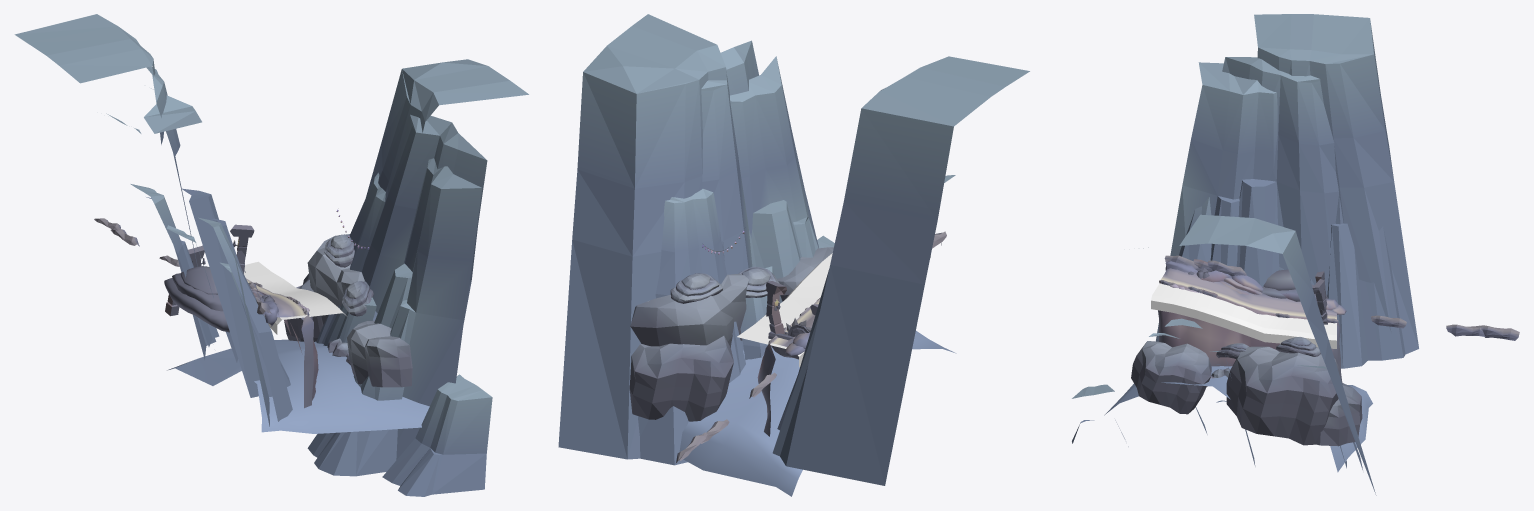
Rendered from Arctic_Narrows_Right_Curve_Right_15_B_Jump_B.glb.
3 renders of one model, left to right at view 1: azimuth 30°, elevation 25°; view 2: azimuth 150°, elevation 25°; view 3: azimuth 270°, elevation 25°, orthographic. The views are drawn at different scales.
Visible parts, largest first — view 1: Arctic_Narrows_Left_IceWall_A02 (1), Arctic_Narrows_Right_IceWall_A02 (1), Arctic_Narrows_Right_Curve_Right_15_B, Arctic_Narrows_Left_IceWall_A02_Right, Arctic_Narrows_Left_IceWall_A02_Mid, Arctic_Narrows_SnowRock_A01 (2), Arctic_Narrows_Right_IceWall_A02_Left, Arctic_Narrows_Left_IceWall_A02_Left, inv_fill, Arctic_Narrows_SnowRock_A01, Arctic_Narrows_Right_IceWall_A02_Mid, Arctic_Narrows_Left_Snow_A01 (+3 smaller); view 2: Arctic_Narrows_Left_IceWall_A02 (1), Arctic_Narrows_Right_IceWall_A02 (1), Arctic_Narrows_Right_Curve_Right_15_B, Arctic_Narrows_Left_IceWall_A02_Left, Arctic_Narrows_SnowRock_A01 (1), Arctic_Narrows_SnowRock_A01, inv_fill, Arctic_Narrows_Left_IceWall_A02_Mid, Arctic_Narrows_Right_IceWall_A02_Right, Arctic_Narrows_SnowRock_A01 (2); view 3: Arctic_Narrows_Right_IceWall_A02 (1), Arctic_Narrows_SnowRock_A01, Arctic_Narrows_Right_Curve_Right_15_B, Arctic_Narrows_Right_IceWall_A02_Right, Arctic_Narrows_Left_IceWall_A02 (1), Arctic_Narrows_SnowRock_A01 (2), inv_fill, Arctic_Narrows_SnowRock_A01 (1), Arctic_Narrows_Right_IceWall_A02_Left.
Part boxes in pixels (x1,y1,x2,y2): Arctic_Narrows_Left_IceWall_A02 (1): (362, 59, 528, 459); Arctic_Narrows_Right_IceWall_A02 (1): (14, 14, 272, 426); Arctic_Narrows_Right_Curve_Right_15_B: (167, 266, 429, 433); Arctic_Narrows_Left_IceWall_A02_Right: (382, 374, 492, 496); Arctic_Narrows_Left_IceWall_A02_Mid: (307, 297, 404, 476); Arctic_Narrows_SnowRock_A01 (2): (347, 320, 412, 387); Arctic_Narrows_Right_IceWall_A02_Left: (198, 217, 292, 421); Arctic_Narrows_Left_IceWall_A02_Left: (316, 172, 385, 343); inv_fill: (244, 261, 346, 334); Arctic_Narrows_SnowRock_A01: (307, 234, 364, 325); Arctic_Narrows_Right_IceWall_A02_Mid: (130, 184, 238, 362); Arctic_Narrows_Left_Snow_A01: (164, 278, 229, 332); Arctic_Narrows_Left_IceWall_A02 (1): (558, 14, 818, 459); Arctic_Narrows_Right_IceWall_A02 (1): (780, 56, 1029, 485); Arctic_Narrows_Right_Curve_Right_15_B: (679, 243, 956, 496); Arctic_Narrows_Left_IceWall_A02_Left: (638, 189, 745, 465); Arctic_Narrows_SnowRock_A01 (1): (629, 336, 733, 421); Arctic_Narrows_SnowRock_A01: (630, 274, 748, 347); inv_fill: (737, 253, 930, 367); Arctic_Narrows_Left_IceWall_A02_Mid: (740, 266, 782, 359); Arctic_Narrows_Right_IceWall_A02_Right: (772, 313, 819, 456); Arctic_Narrows_SnowRock_A01 (2): (777, 247, 833, 301); Arctic_Narrows_Right_IceWall_A02 (1): (1155, 14, 1418, 354); Arctic_Narrows_SnowRock_A01: (1226, 346, 1342, 445); Arctic_Narrows_Right_Curve_Right_15_B: (1104, 261, 1372, 472); Arctic_Narrows_Right_IceWall_A02_Right: (1327, 195, 1405, 368); Arctic_Narrows_Left_IceWall_A02 (1): (1143, 214, 1376, 495); Arctic_Narrows_SnowRock_A01 (2): (1131, 341, 1211, 414); inv_fill: (1151, 283, 1336, 348); Arctic_Narrows_SnowRock_A01 (1): (1315, 383, 1362, 446); Arctic_Narrows_Right_IceWall_A02_Left: (1179, 197, 1211, 261).
Size of the model in its own units: 23.97 by 22.24 by 28.09.
